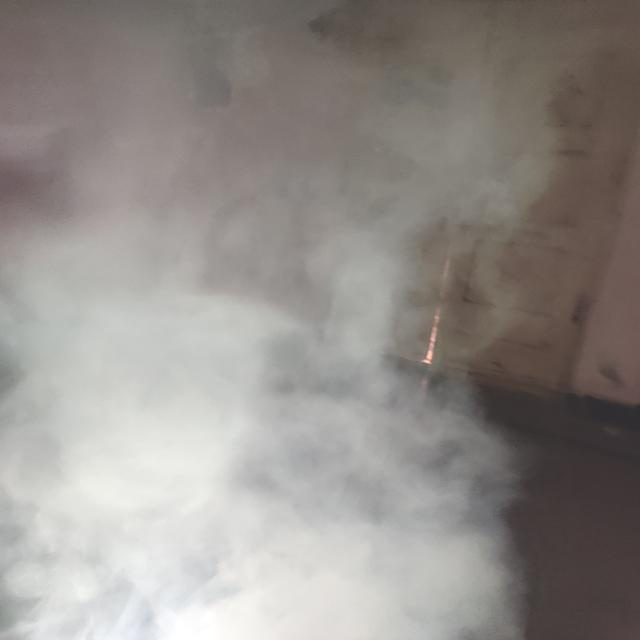smoke: (5, 2, 452, 640)
